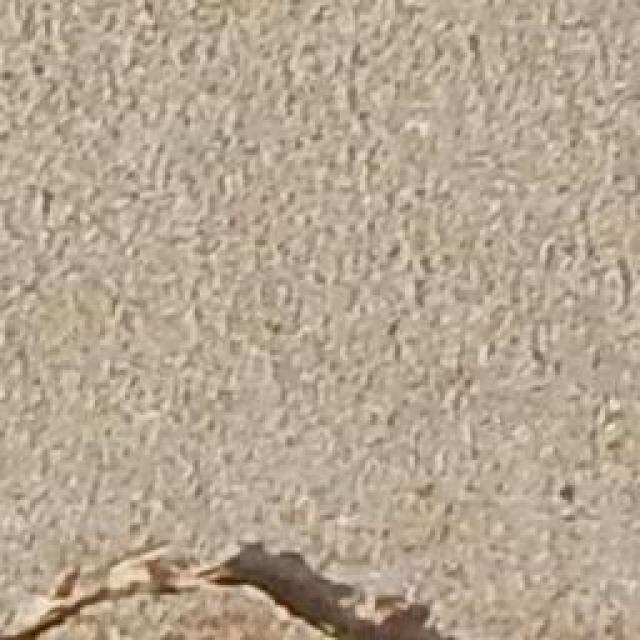concrete-crack: (1, 532, 462, 640)
